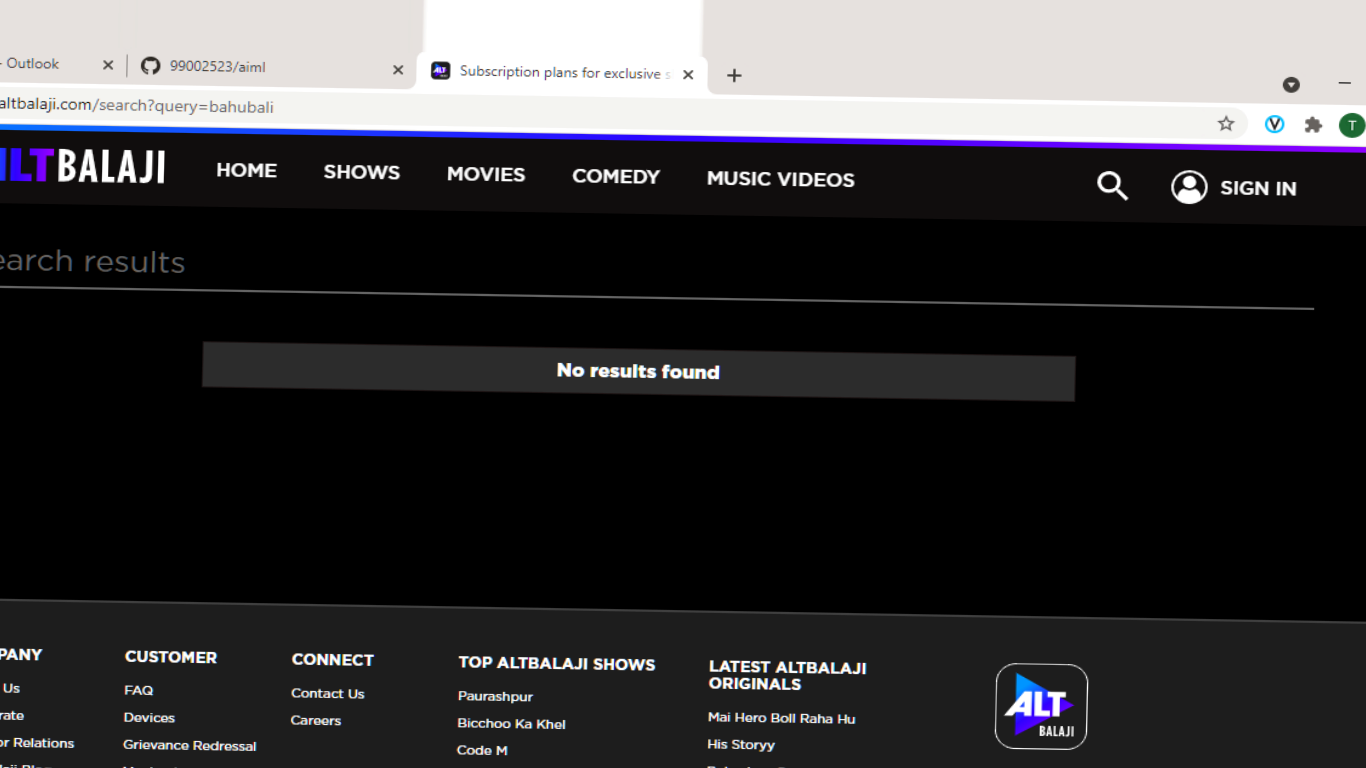noresultsfound: (180, 320, 1082, 428)
profileicon: (1164, 161, 1329, 223)
searchicon: (1085, 161, 1144, 211)
